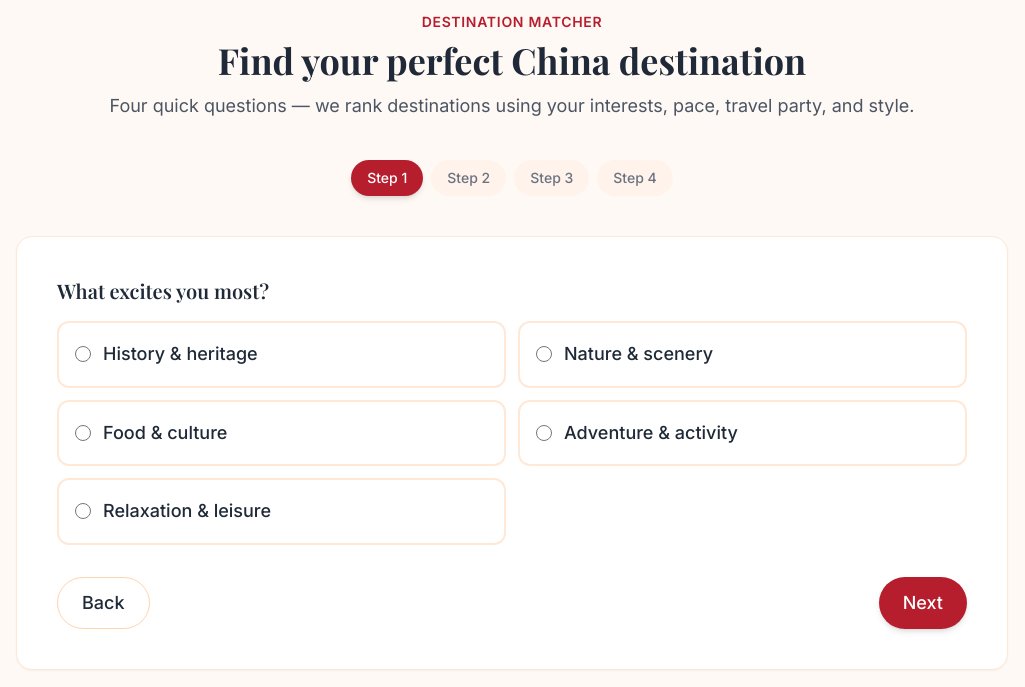
it: DestinationMatcher component › advances through questions
Click the radio button labelled "History & heritage".
click(83, 354)  # box [75, 346, 91, 362]
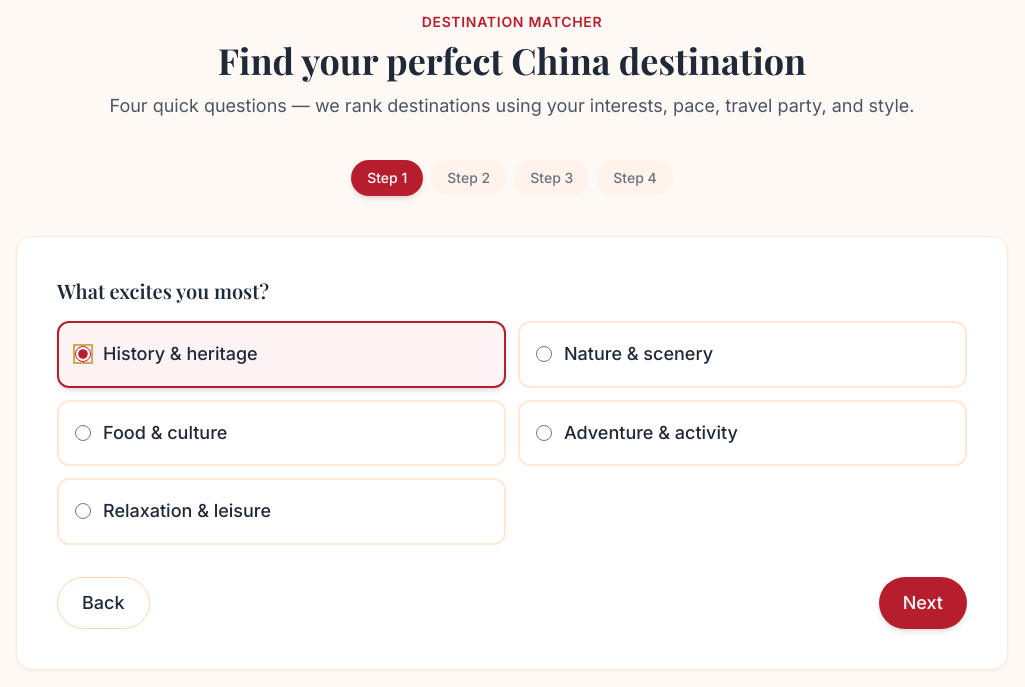
Click the button "Next".
click(923, 603)  # box [879, 577, 967, 629]
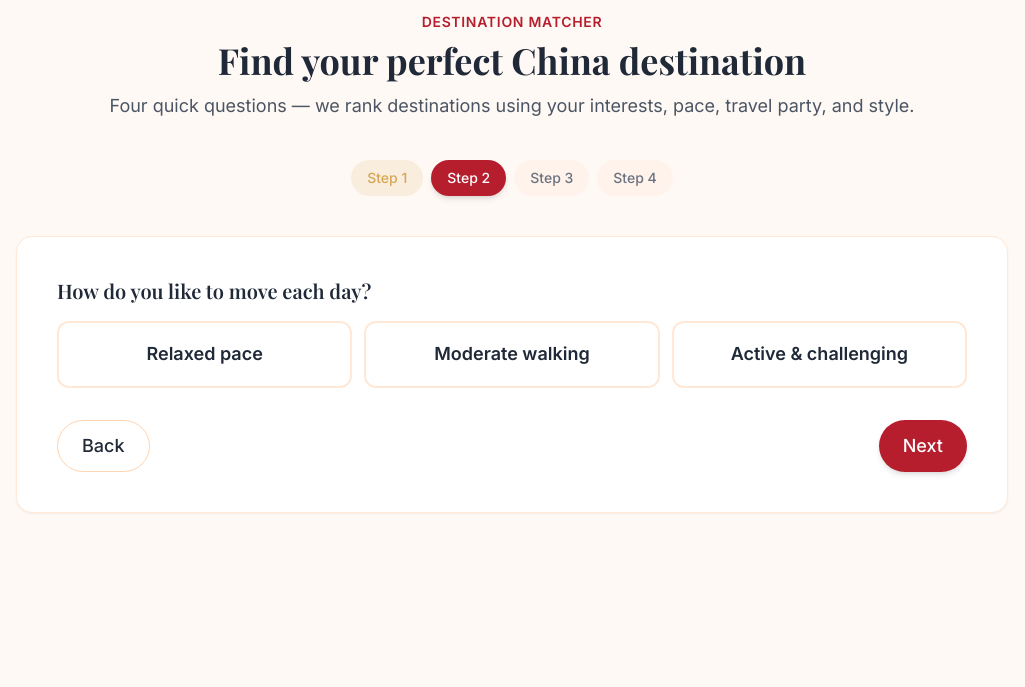
Expected: the text "How do you like to move each day?" is shown, [57, 277, 371, 305]
